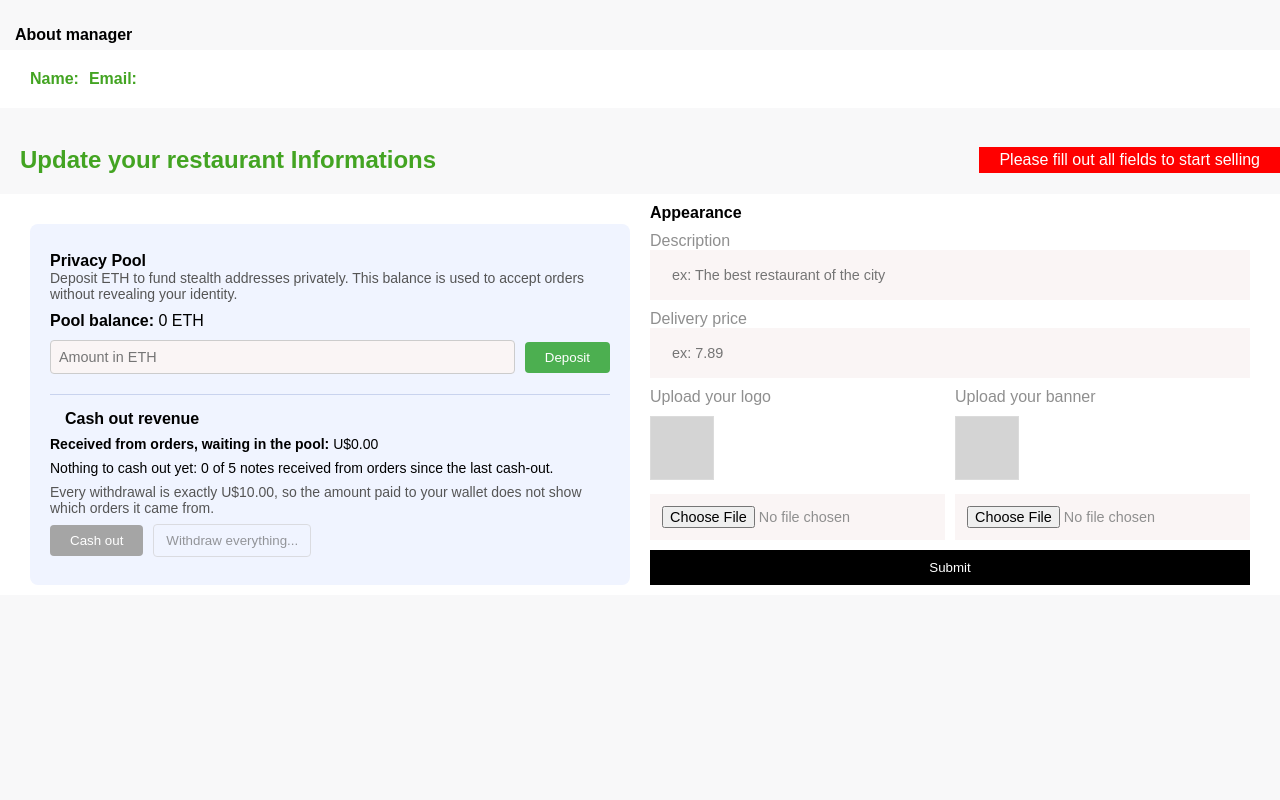
the pool deposit of the Menu page › has the secrets of the note in storage when the wallet is asked to send
The image size is (1280, 800).
In the number field with placeholder "Amount in ETH": (282, 357) [50,340,515,374], type "0.05"
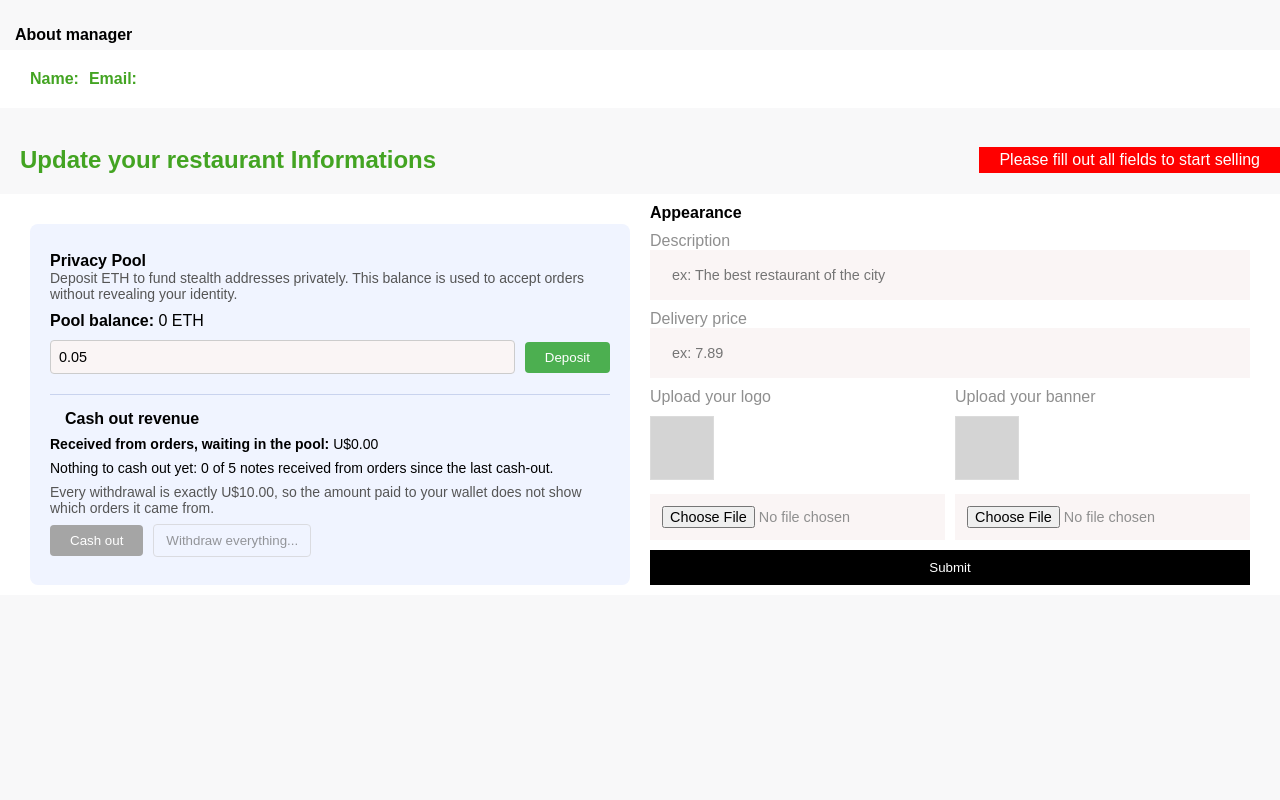
Click the button "Deposit": (567, 357) [525,342,610,373]
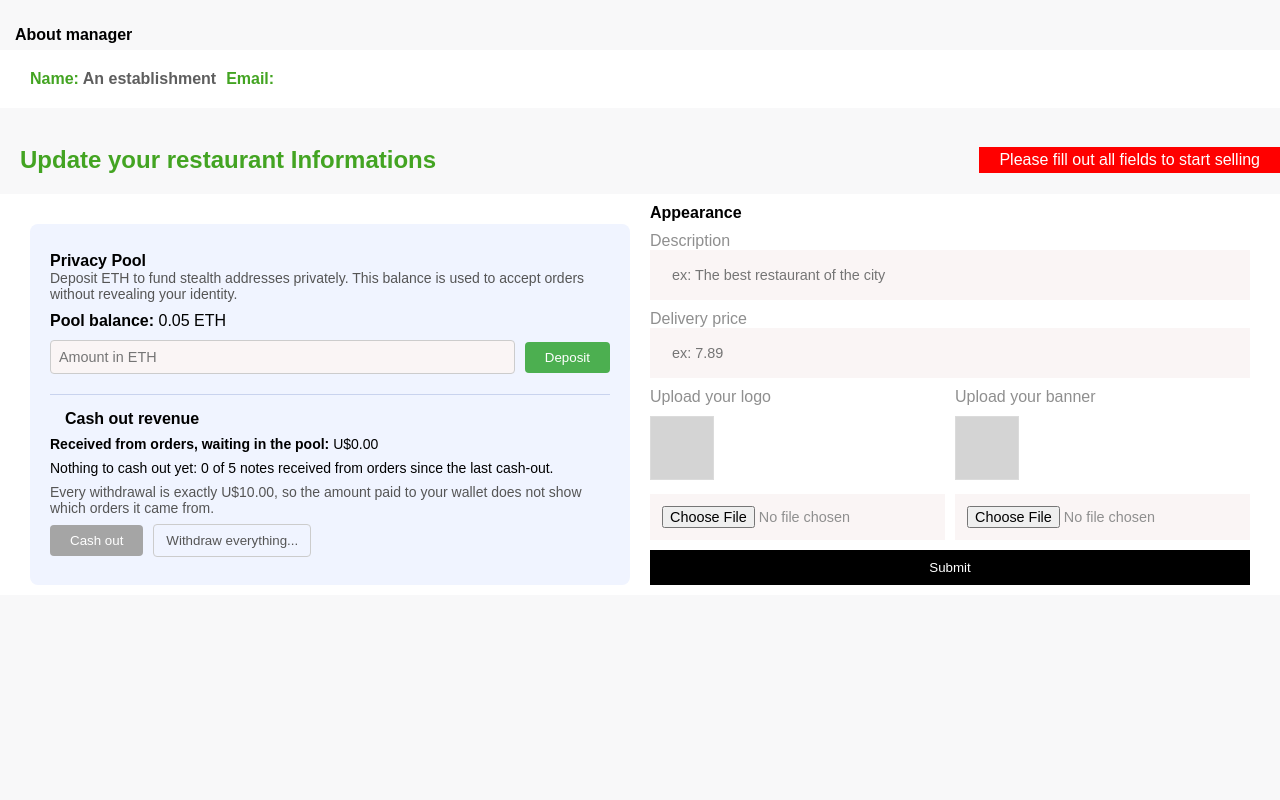
Expected: the element showing "Pool balance: 0.05 ETH" is shown, [50,312,226,329]
